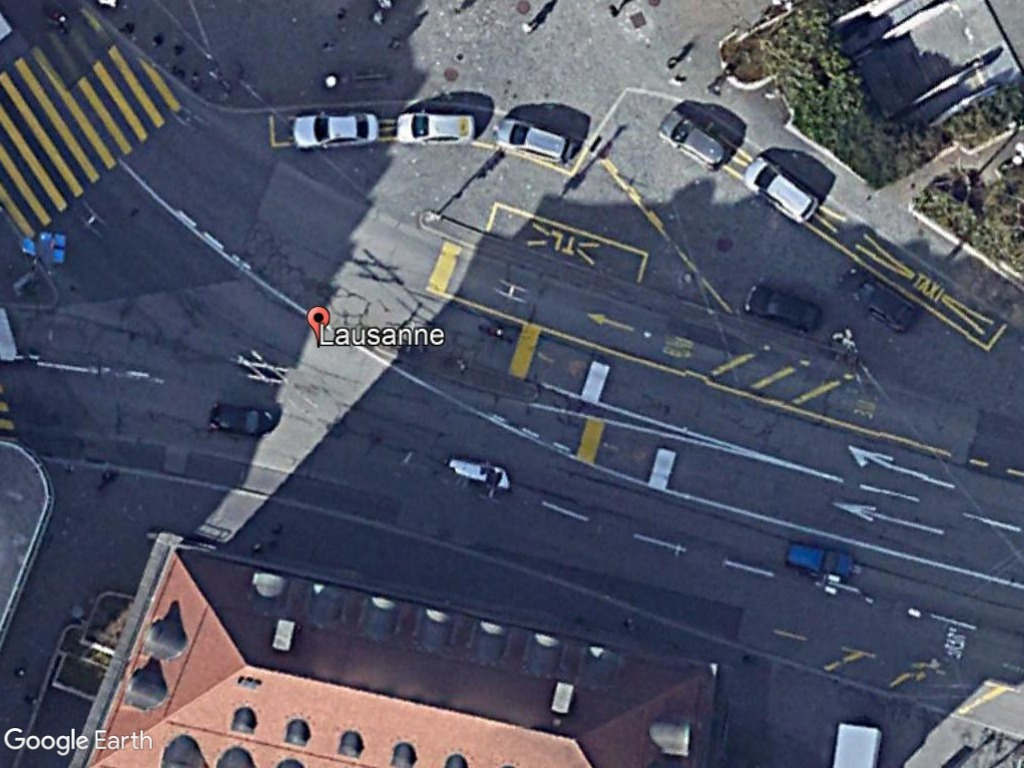car: (739, 154, 823, 225), (653, 106, 732, 174), (493, 115, 576, 165), (289, 109, 381, 149), (784, 539, 858, 584), (393, 111, 479, 146)
